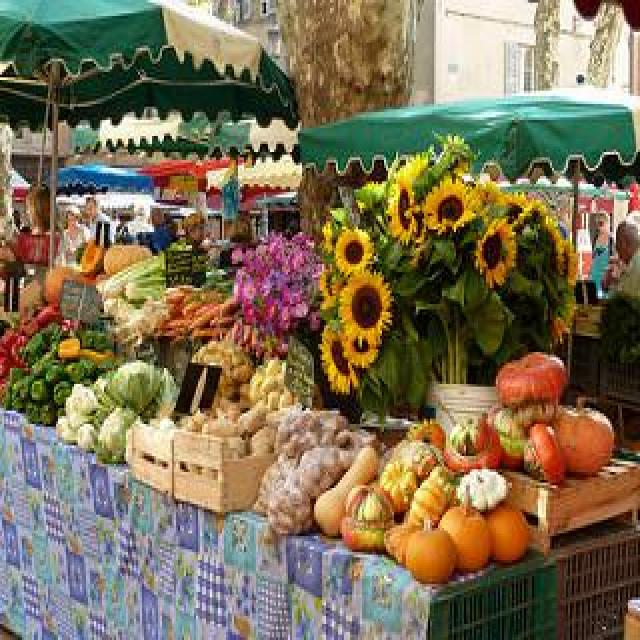sunflower: (337, 271, 395, 340), (316, 320, 356, 395), (423, 179, 476, 233), (475, 217, 515, 288), (387, 172, 415, 243), (334, 227, 373, 274), (344, 327, 382, 366), (499, 192, 525, 225), (320, 267, 339, 305), (561, 250, 579, 285)
